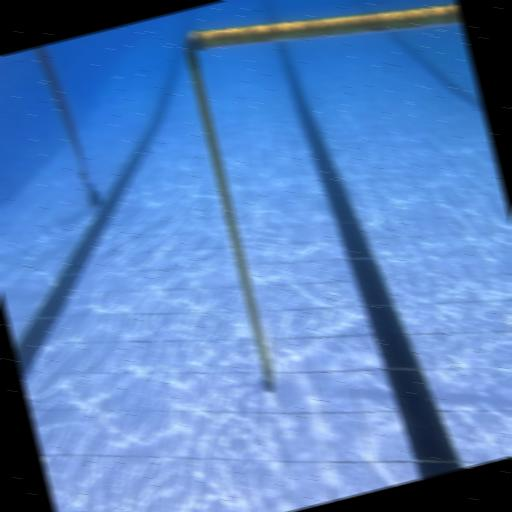gate: (177, 0, 512, 427)
